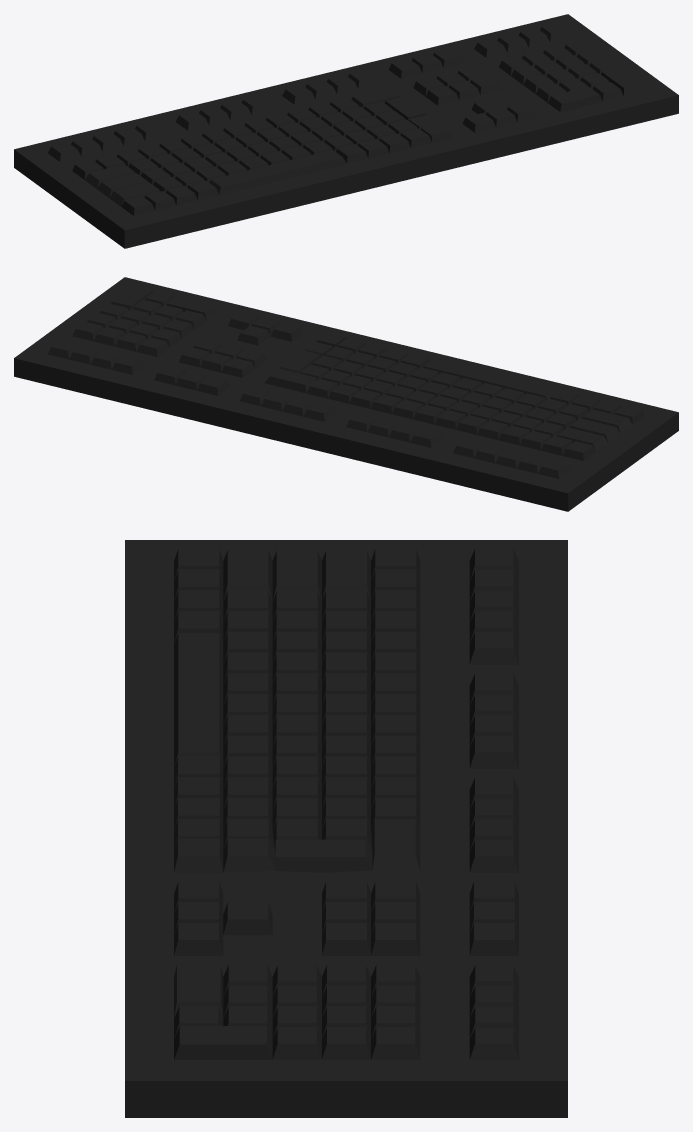
The model's file is keyboard.gltf.
The picture shows the model from 3 angles, top to bottom: view 1: azimuth 30°, elevation 25°; view 2: azimuth 150°, elevation 25°; view 3: azimuth 270°, elevation 25°; orthographic projection. The views are drawn at different scales.
Visible parts, largest first — view 1: Cube; view 2: Cube; view 3: Cube.
Boxes of the visible parts, left/top/right/bottom form: Cube: left=14, top=14, right=678, bottom=248; Cube: left=14, top=277, right=678, bottom=511; Cube: left=125, top=540, right=567, bottom=1117.
Bounding box in the file's own units: 0.25 × 0.0111 × 0.0866.
1 material, 1 textured.
